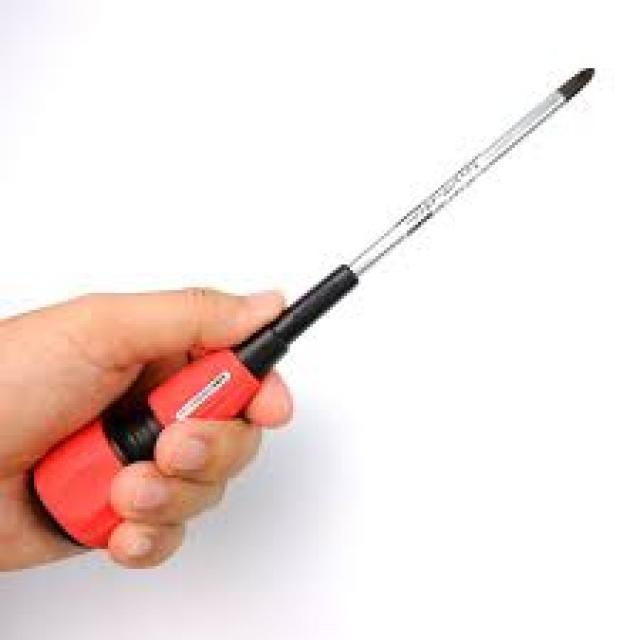screwdriver: (28, 67, 603, 550)
